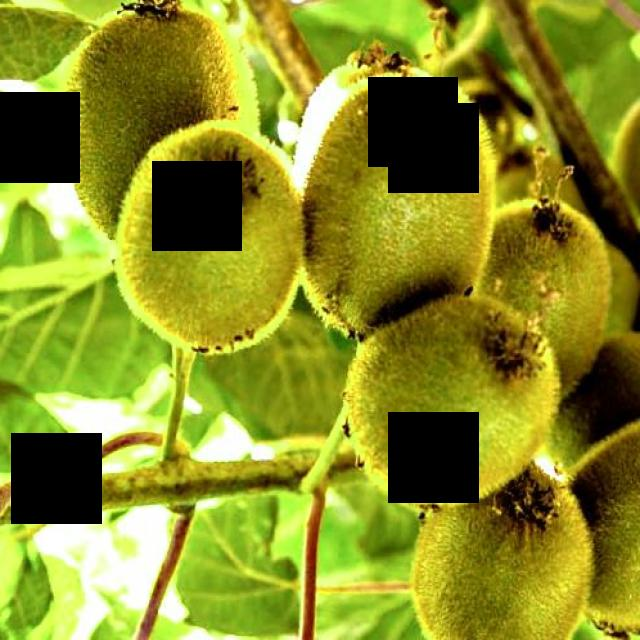kiwi: (282, 65, 510, 360), (100, 113, 308, 373), (54, 1, 250, 259), (337, 296, 573, 510), (408, 462, 604, 640), (469, 188, 614, 414), (546, 413, 640, 640), (531, 323, 640, 508)
